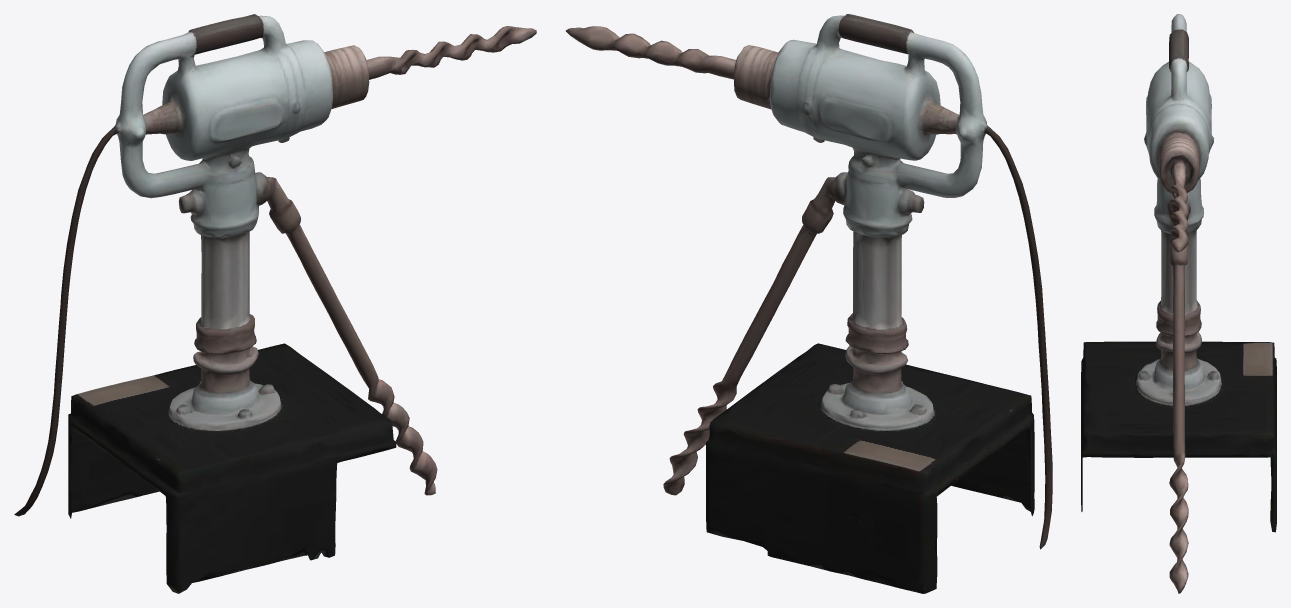
The model's file is perforadora.glb.
3 renders of one model, left to right at view 1: azimuth 30°, elevation 25°; view 2: azimuth 150°, elevation 25°; view 3: azimuth 270°, elevation 25°, orthographic. The views are drawn at different scales.
Parts seen in each view (by area): view 1: geometry_0; view 2: geometry_0; view 3: geometry_0.
Part boxes in pixels (x1=…): geometry_0: x1=14, y1=14, x2=536, y2=593; geometry_0: x1=565, y1=14, x2=1052, y2=593; geometry_0: x1=1081, y1=14, x2=1276, y2=593.
Size of the model in its own units: 1.3 by 1.3 by 0.5.
1 material, 1 textured.
